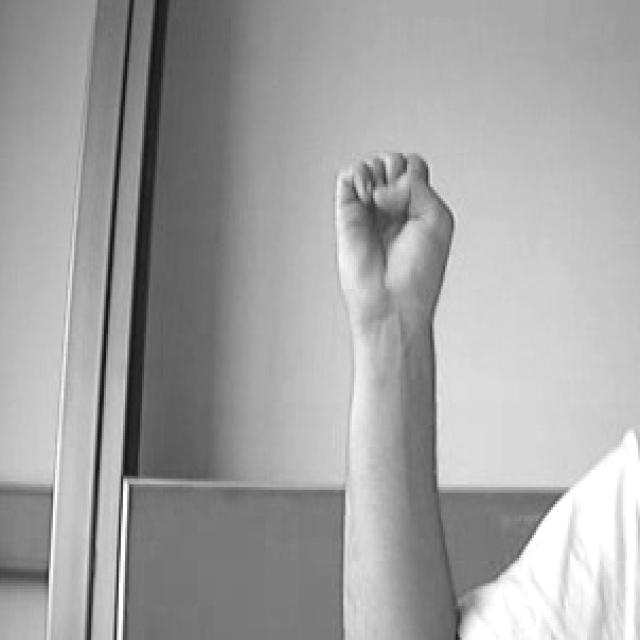E: (323, 131, 475, 332)
